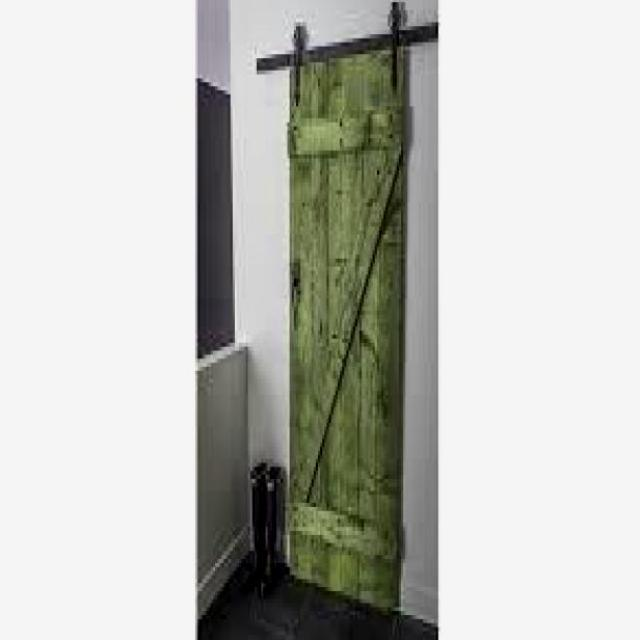door: (267, 2, 431, 640)
